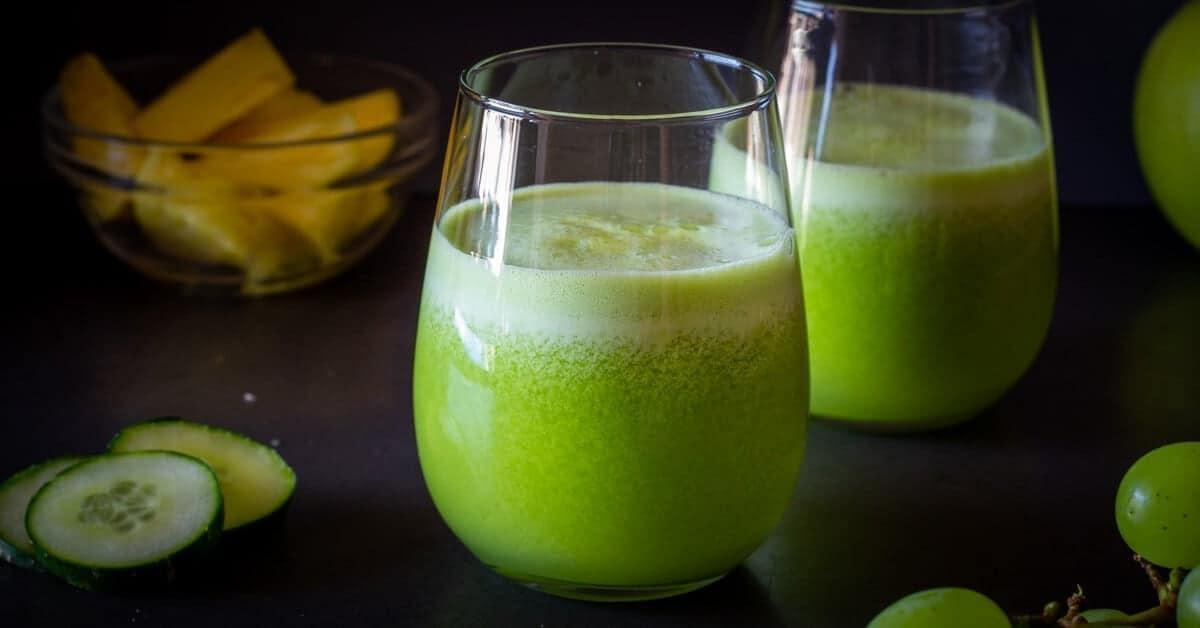glass-normal: (407, 40, 814, 606), (772, 3, 1063, 425)
